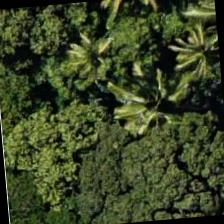Kelapa_Sawit: (81, 52, 179, 150), (48, 11, 146, 109), (146, 8, 224, 104)
